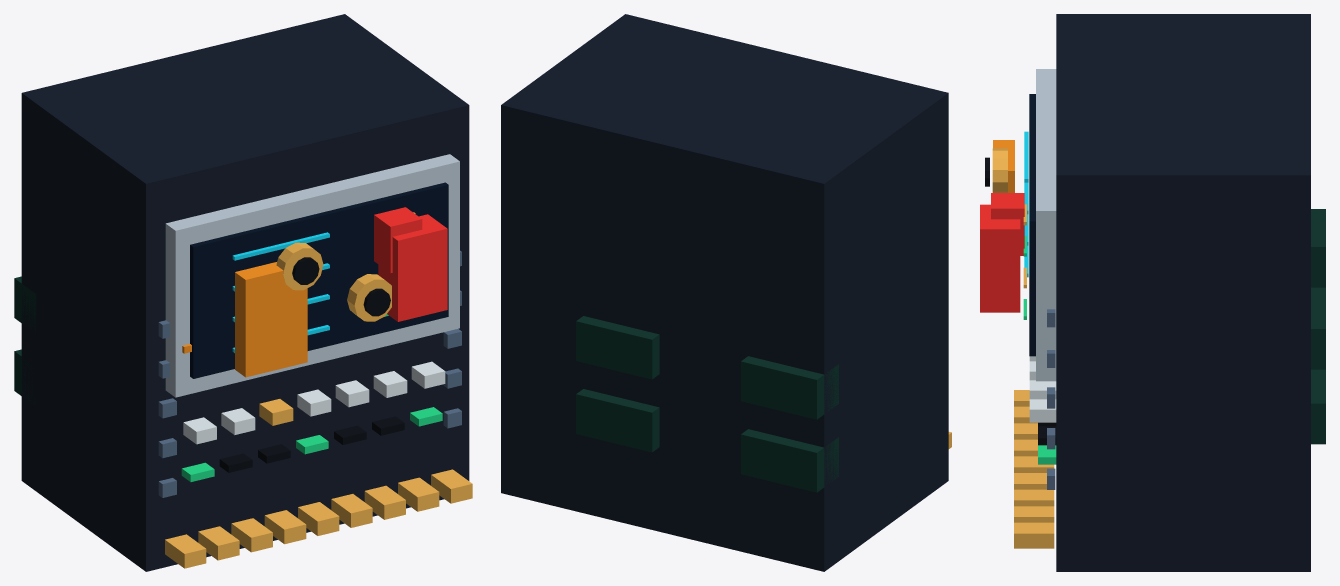
The model's file is 82_L91_DetectorHighBackgroundFaultInjector.fbx.
3 renders of one model, left to right at view 1: azimuth 30°, elevation 25°; view 2: azimuth 150°, elevation 25°; view 3: azimuth 270°, elevation 25°, orthographic. The views are drawn at different scales.
Visible parts, largest first — view 1: L91_DetectorHighBackgroundFaultInjector, L91_DetectorHighBackgroundFaultInjector_Part_0013, L91_DetectorHighBackgroundFaultInjector_Part_0017, L91_DetectorHighBackgroundFaultInjector_Part_0015, L91_DetectorHighBackgroundFaultInjector_Part_0018, L91_DetectorHighBackgroundFaultInjector_Part_0016; view 2: L91_DetectorHighBackgroundFaultInjector; view 3: L91_DetectorHighBackgroundFaultInjector, L91_DetectorHighBackgroundFaultInjector_Part_0013, L91_DetectorHighBackgroundFaultInjector_Part_0015.
Boxes of the visible parts, left/top/right/bottom form: L91_DetectorHighBackgroundFaultInjector: left=14, top=14, right=472, bottom=571; L91_DetectorHighBackgroundFaultInjector_Part_0013: left=378, top=214, right=447, bottom=321; L91_DetectorHighBackgroundFaultInjector_Part_0017: left=347, top=274, right=391, bottom=321; L91_DetectorHighBackgroundFaultInjector_Part_0015: left=276, top=242, right=323, bottom=290; L91_DetectorHighBackgroundFaultInjector_Part_0018: left=363, top=288, right=390, bottom=316; L91_DetectorHighBackgroundFaultInjector_Part_0016: left=292, top=257, right=319, bottom=284; L91_DetectorHighBackgroundFaultInjector: left=501, top=14, right=951, bottom=571; L91_DetectorHighBackgroundFaultInjector: left=991, top=14, right=1325, bottom=571; L91_DetectorHighBackgroundFaultInjector_Part_0013: left=980, top=204, right=1020, bottom=312; L91_DetectorHighBackgroundFaultInjector_Part_0015: left=992, top=148, right=1007, bottom=192.
Size of the model in its own units: 104 by 119 by 94.26.
